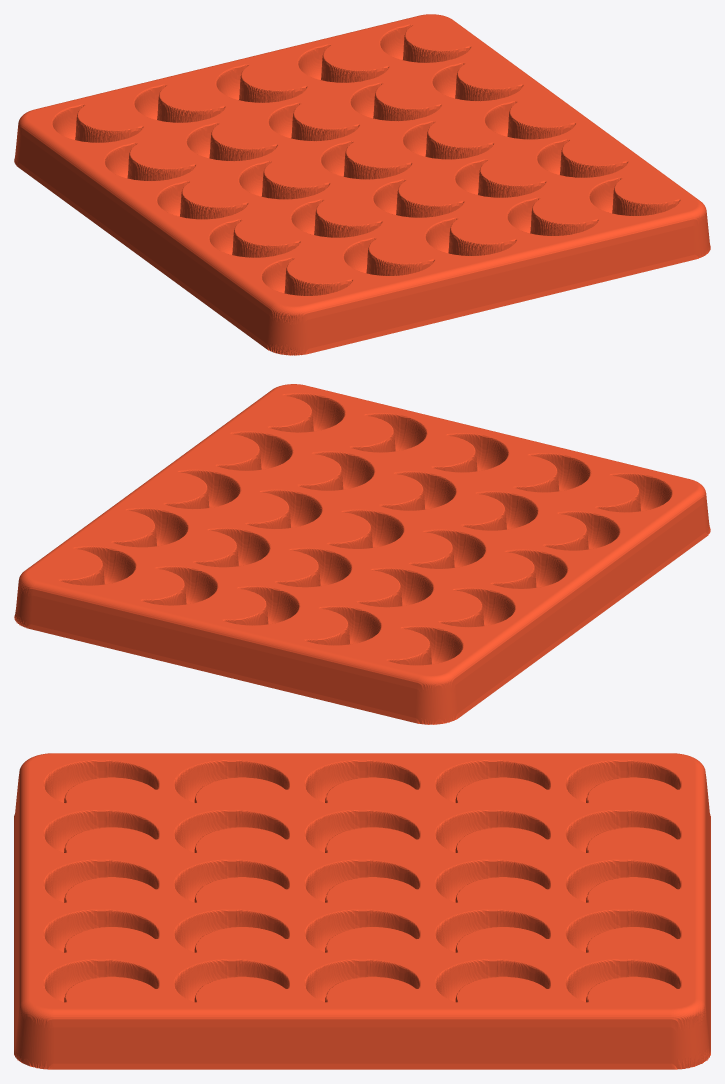
File: mold.glb
The picture shows the model from 3 angles, top to bottom: view 1: azimuth 30°, elevation 25°; view 2: azimuth 150°, elevation 25°; view 3: azimuth 270°, elevation 25°; orthographic projection. The views are drawn at different scales.
Visible parts, largest first — view 1: geometry_0; view 2: geometry_0; view 3: geometry_0.
Boxes of the visible parts, left/top/right/bottom form: geometry_0: left=14, top=14, right=710, bottom=355; geometry_0: left=14, top=384, right=710, bottom=724; geometry_0: left=14, top=753, right=710, bottom=1069.
Size of the model in its own units: 0.1441 by 0.0136 by 0.1584.
